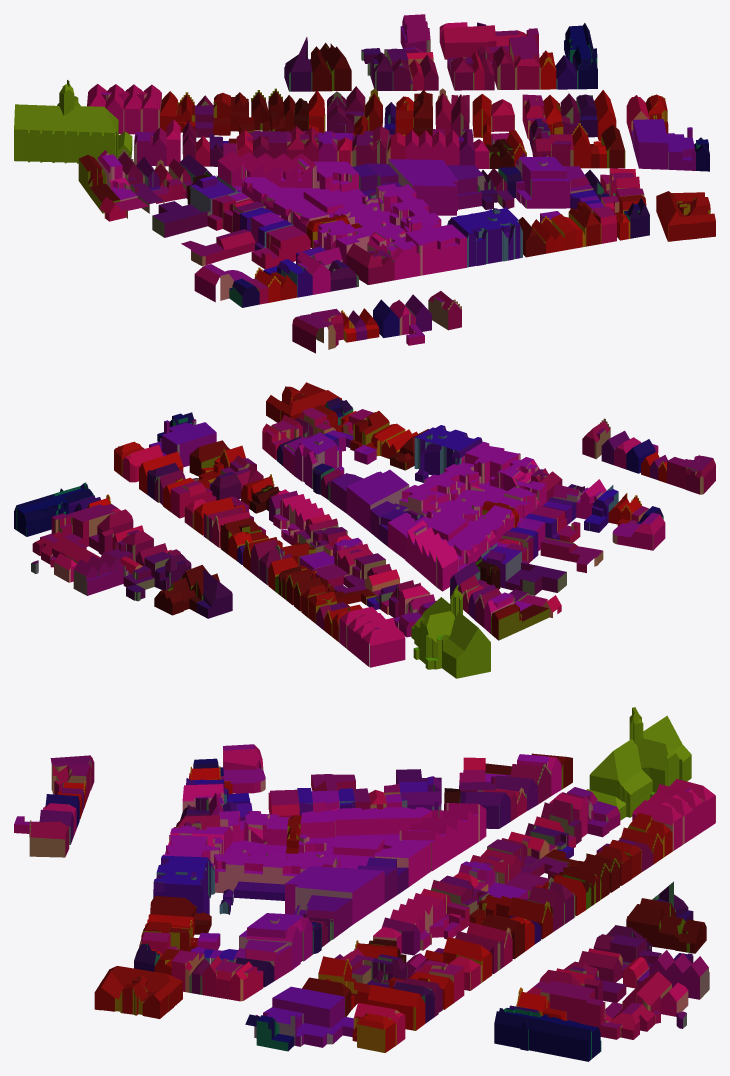
Rendered from buildings_10_11.glb.
3 renders of one model, top to bottom at view 1: azimuth 30°, elevation 25°; view 2: azimuth 150°, elevation 25°; view 3: azimuth 270°, elevation 25°, orthographic. The views are drawn at different scales.
Visible parts, largest first — view 1: buildings_10_11; view 2: buildings_10_11; view 3: buildings_10_11.
Boxes of the visible parts, <box> form: buildings_10_11: <box>14,14,715,353</box>; buildings_10_11: <box>14,382,715,678</box>; buildings_10_11: <box>14,707,715,1061</box>.
Bounding box in the file's own units: 219 × 29.28 × 220.
